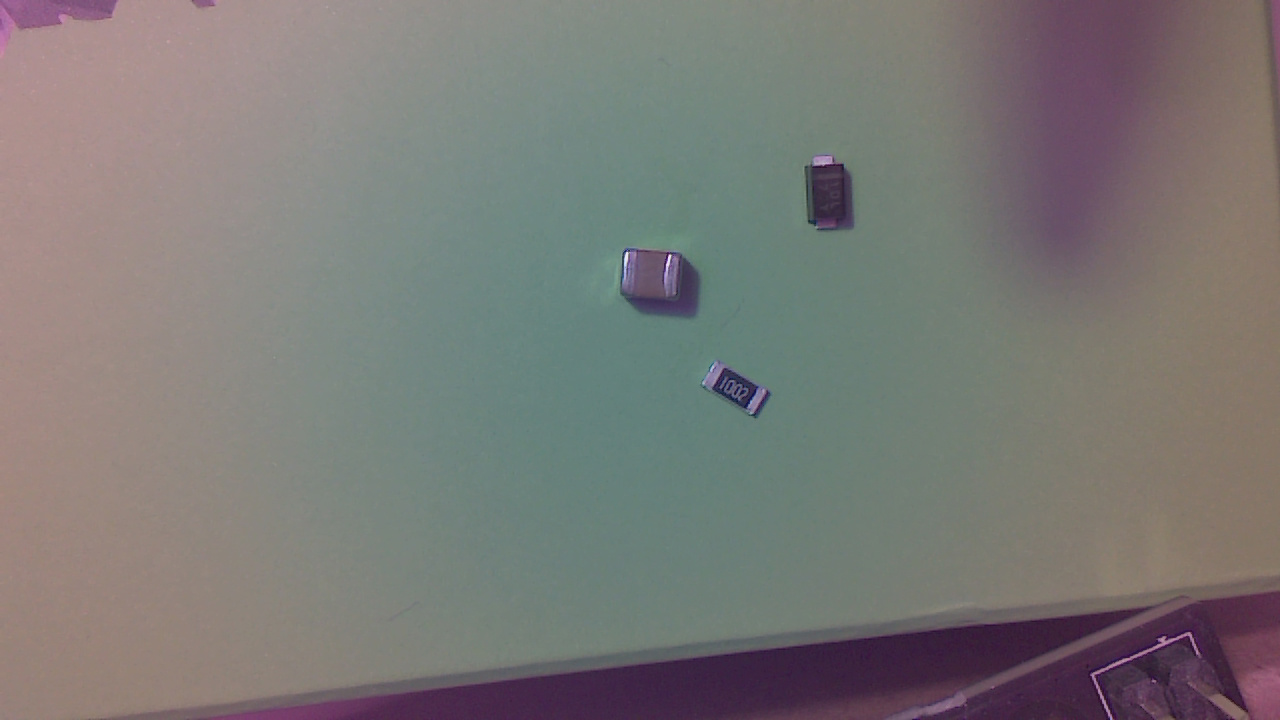Condensator: (625, 250, 691, 311)
Diode: (809, 156, 855, 237)
Resistor: (706, 364, 774, 420)
